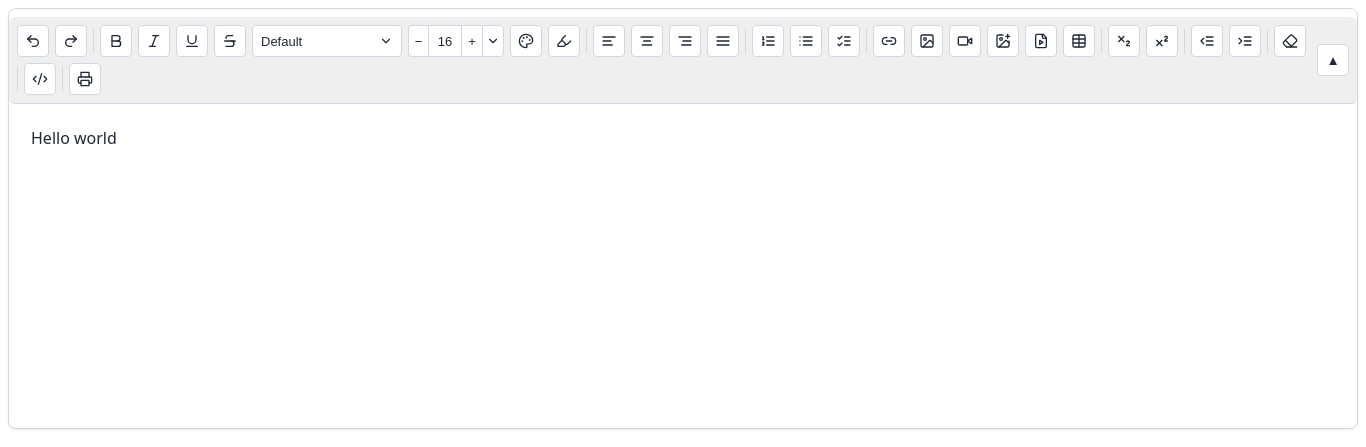
Scenario: Editor › keeps primary row visible when collapsed
Click the button named "Collapse toolbar row" at (1333, 60), box [1317, 44, 1349, 76]
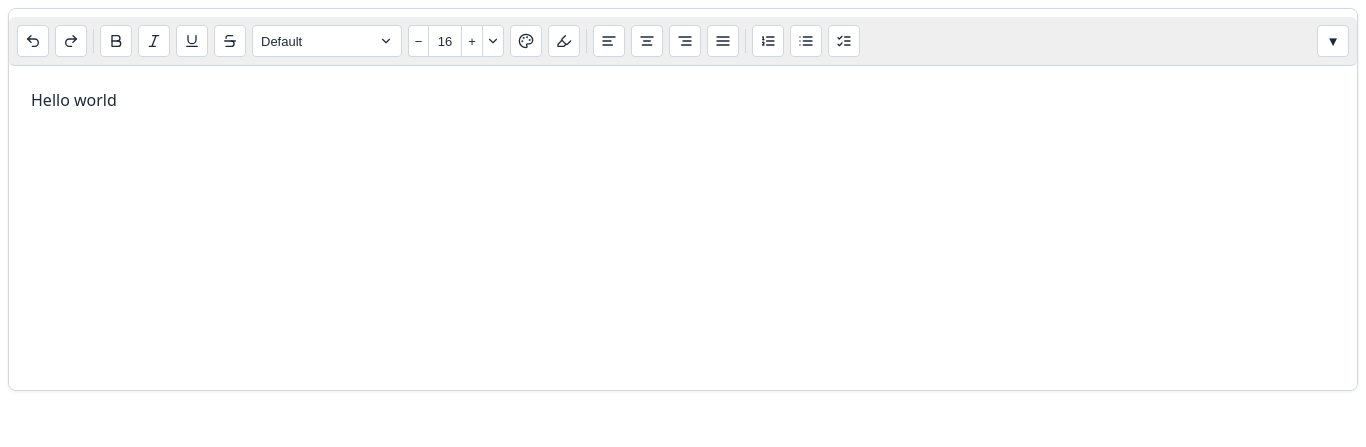
Check: the button named "Bold" is shown, box [100, 25, 132, 57]
Check: the button named "Expand toolbar row" is shown, box [1317, 25, 1349, 57]
